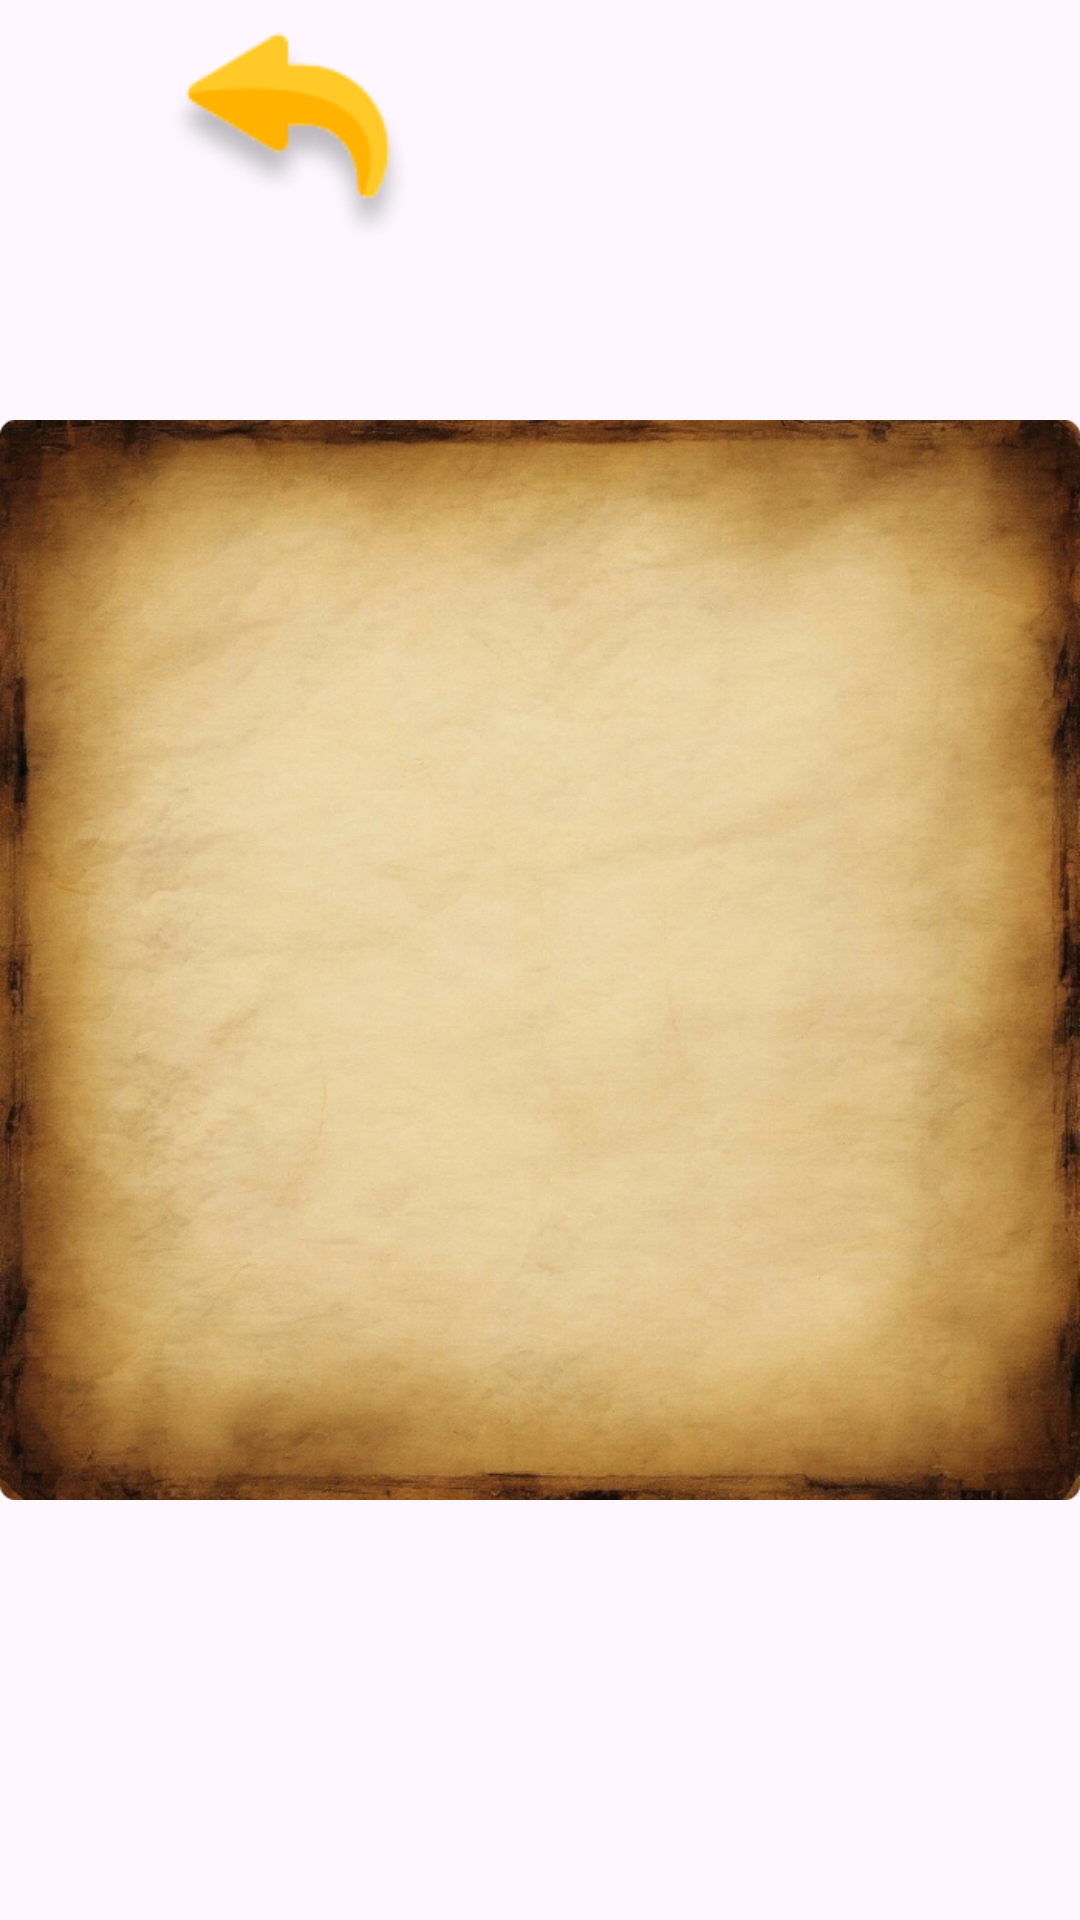

Named icons in this screenshot (1080 × 1920) and their centers, [x,y]:
back: [288,126]
